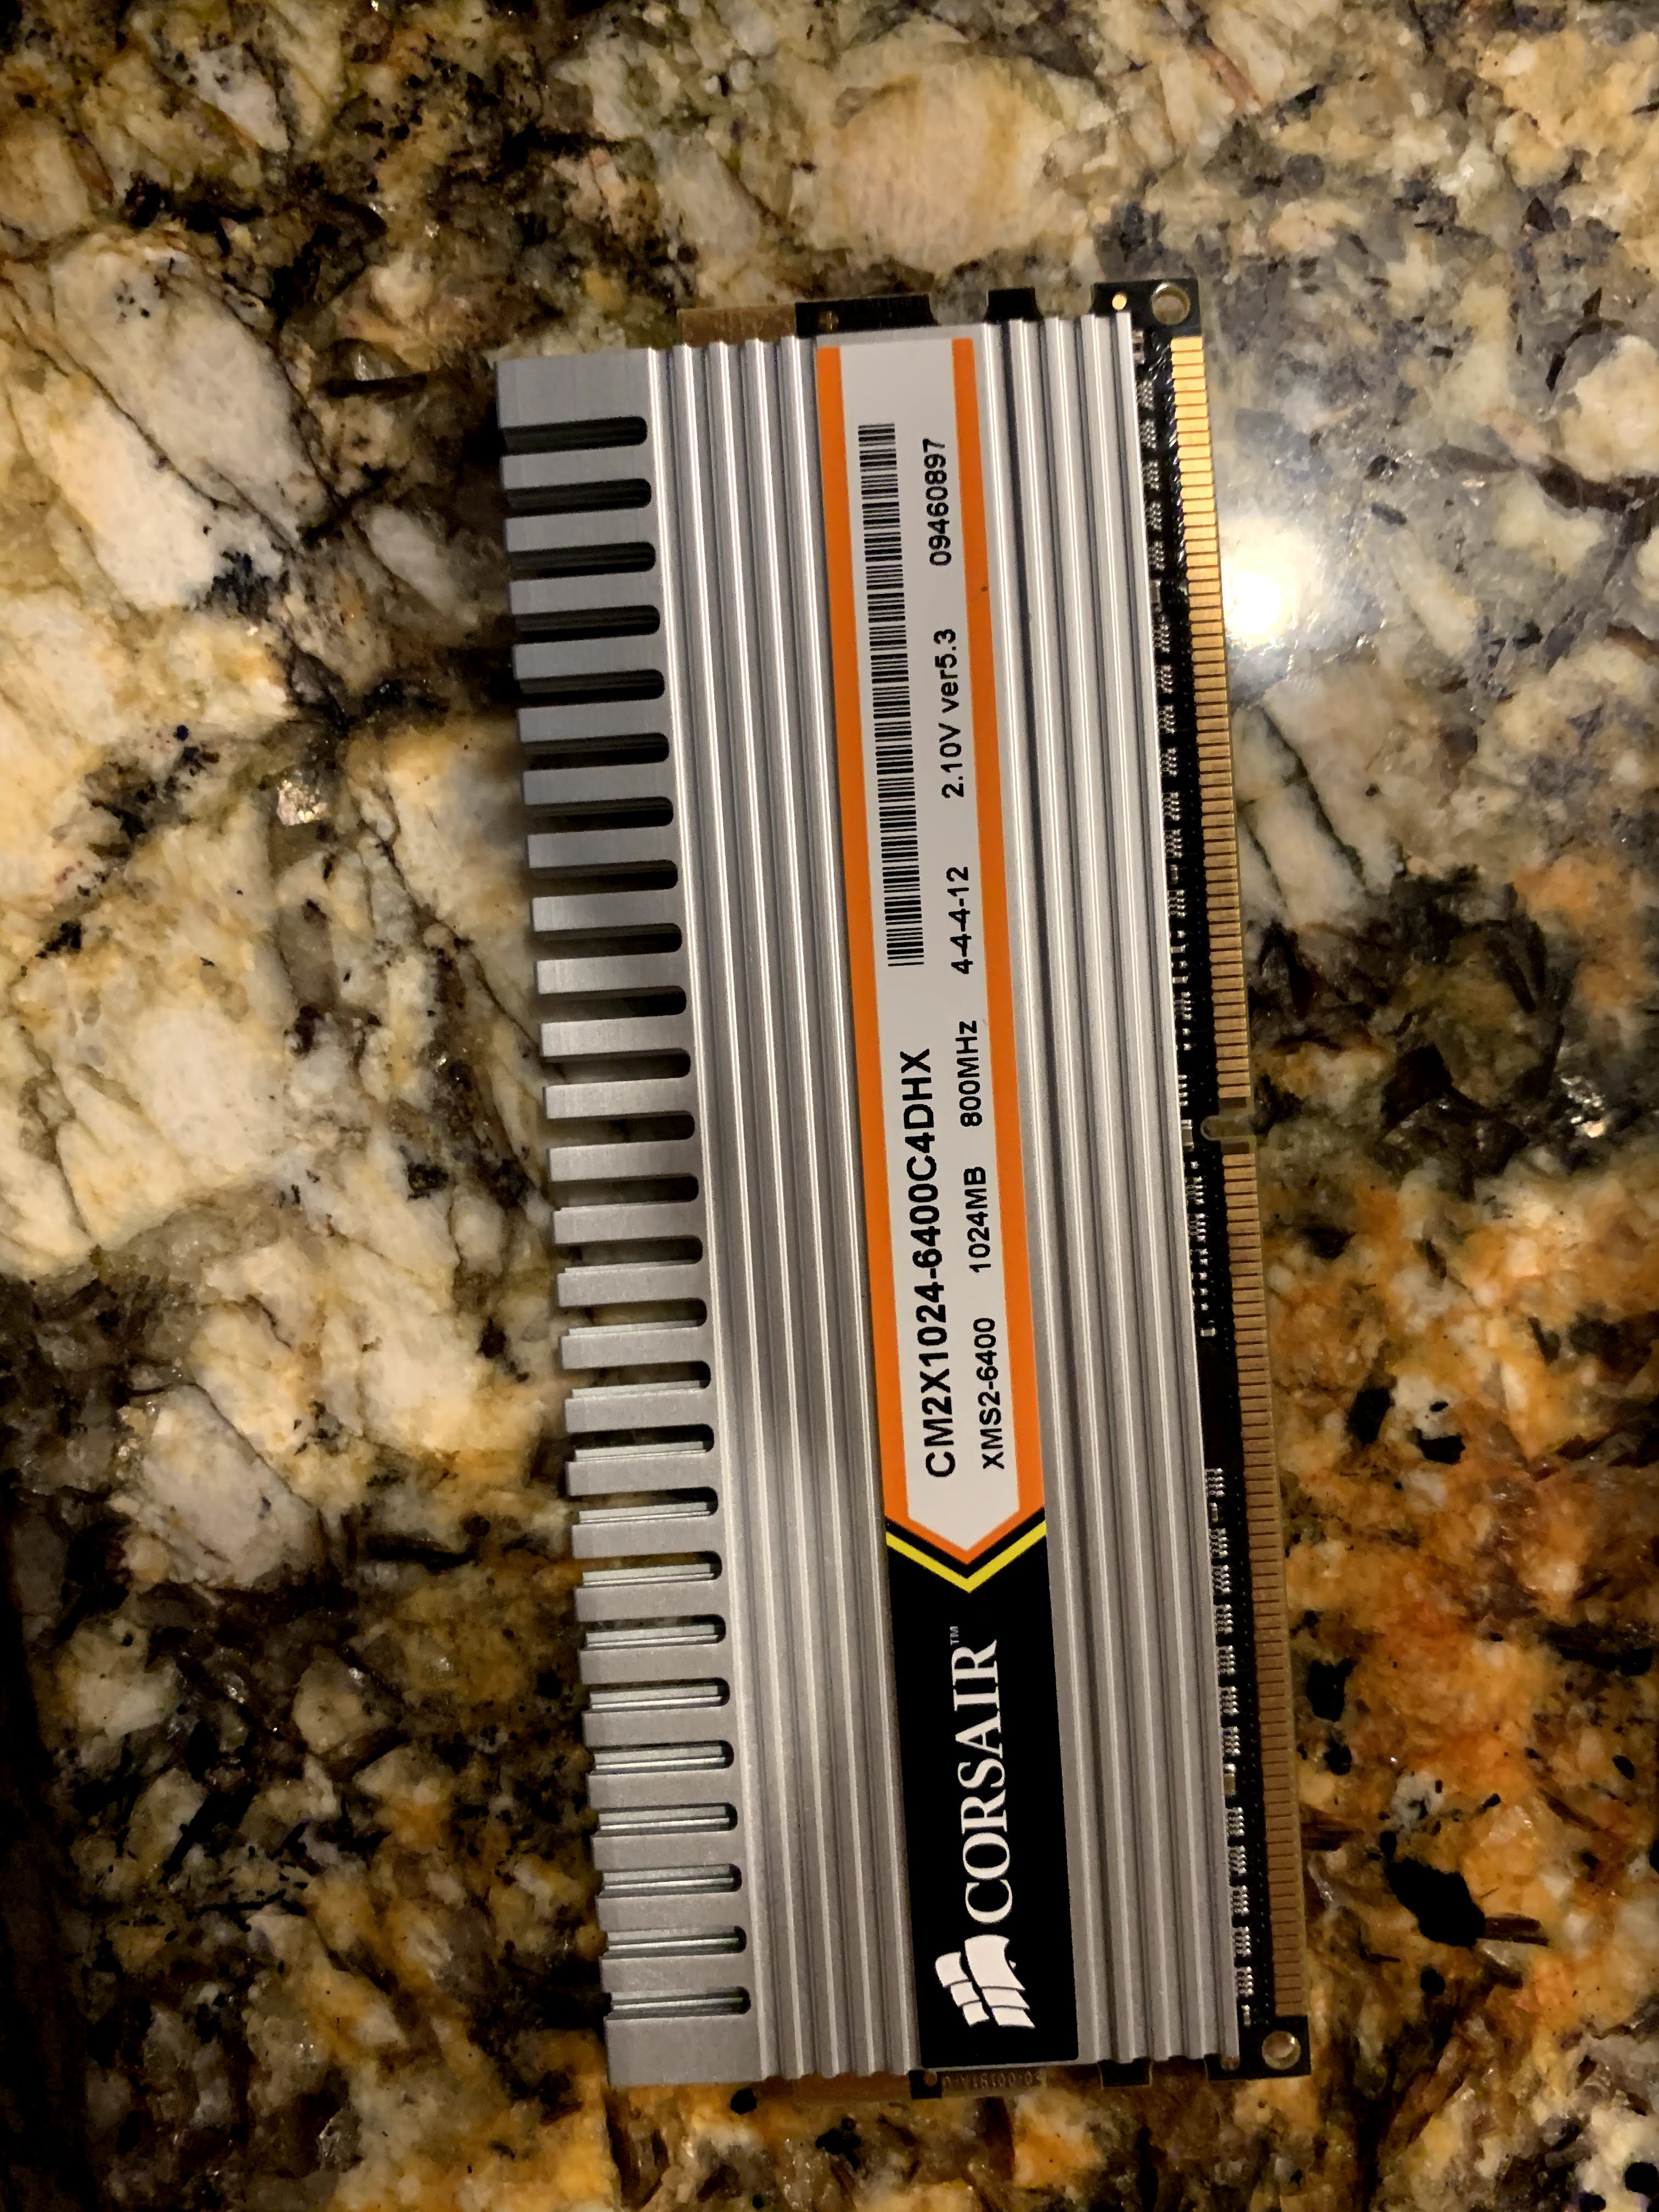Space-debris-medium: (451, 266, 1387, 2151)
